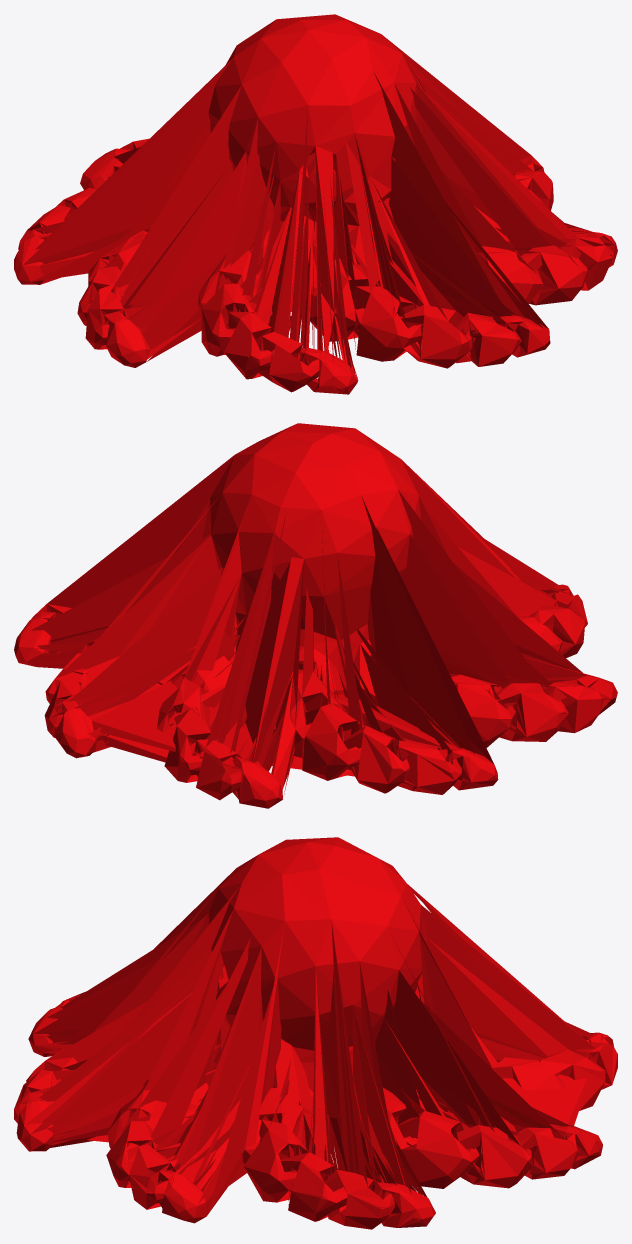
The model's file is benchy.dae.
3 renders of one model, top to bottom at view 1: azimuth 30°, elevation 25°; view 2: azimuth 150°, elevation 25°; view 3: azimuth 270°, elevation 25°, orthographic. The views are drawn at different scales.
Visible parts, largest first — view 1: octopus_spiral; view 2: octopus_spiral; view 3: octopus_spiral.
Part boxes in pixels (x1=…): octopus_spiral: x1=14, y1=14, x2=617, y2=394; octopus_spiral: x1=14, y1=423, x2=617, y2=808; octopus_spiral: x1=14, y1=837, x2=617, y2=1229.
Size of the model in its own units: 0.0851 by 0.085 by 0.0403.
